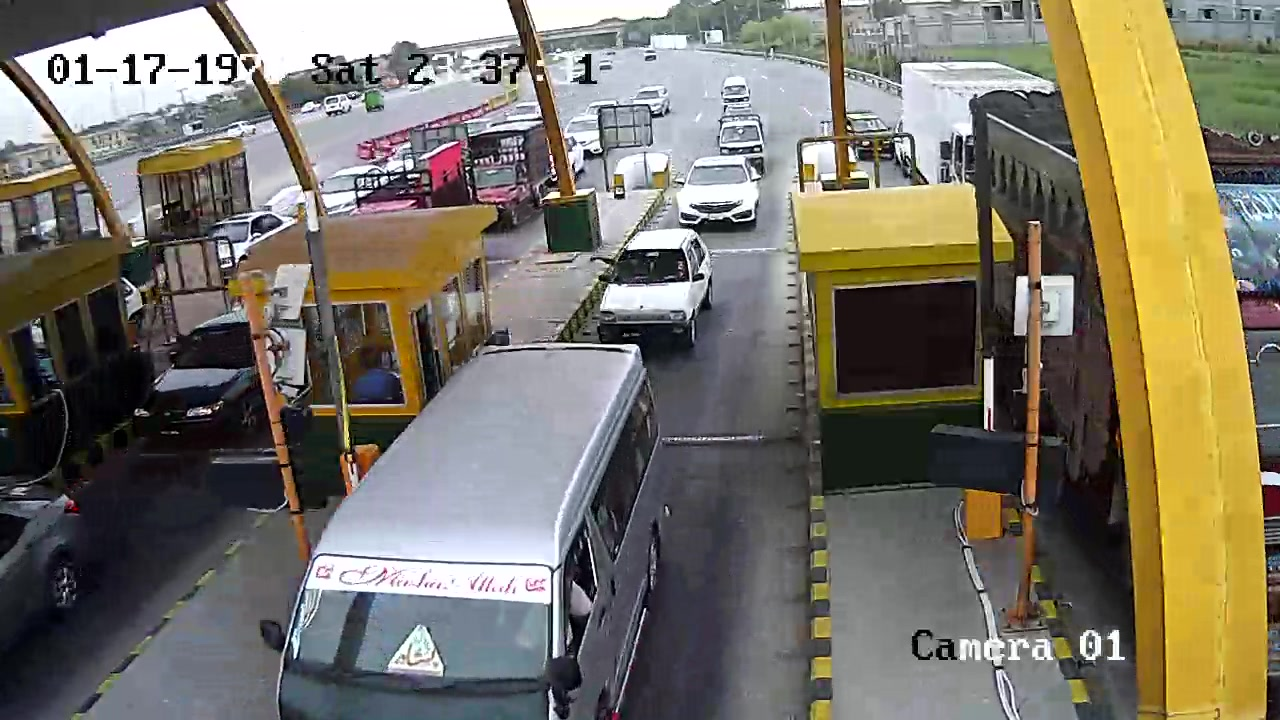F1: (589, 221, 716, 341)
